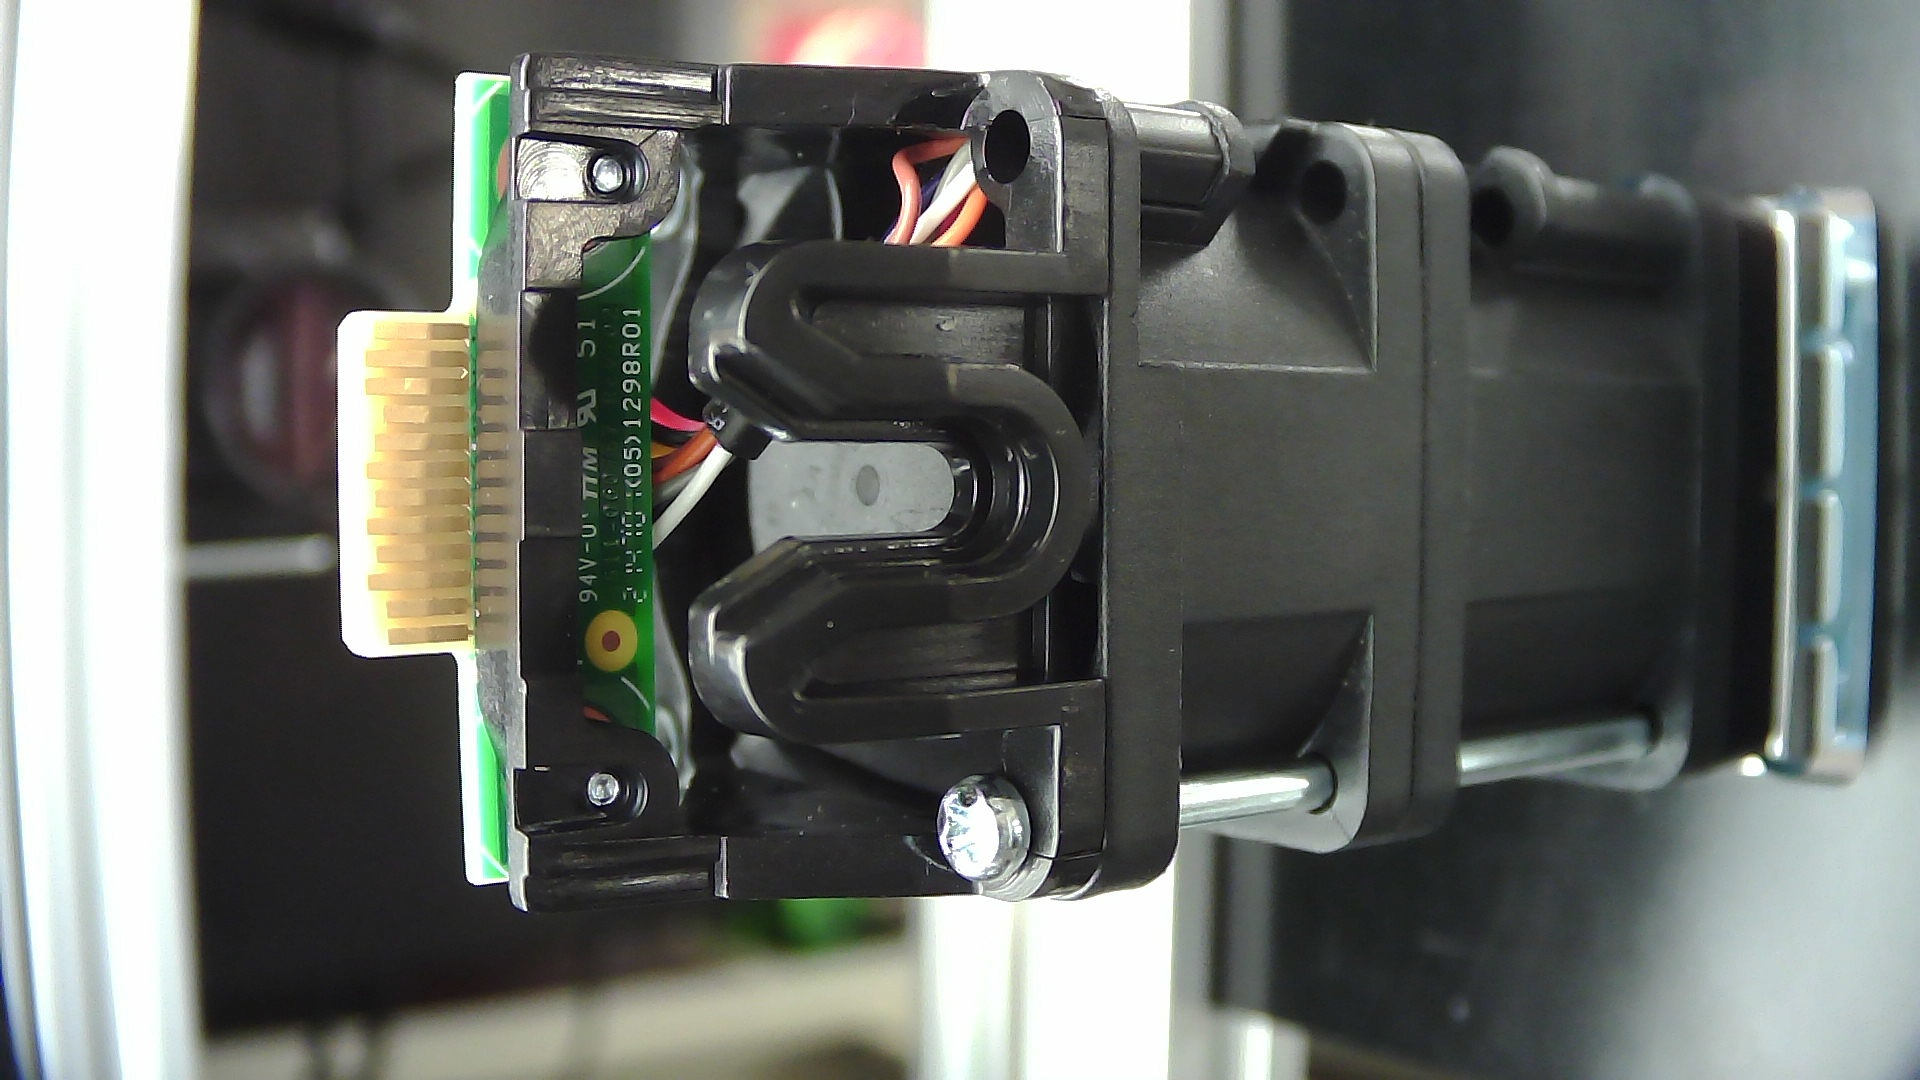3_0: (295, 33, 1920, 956)
